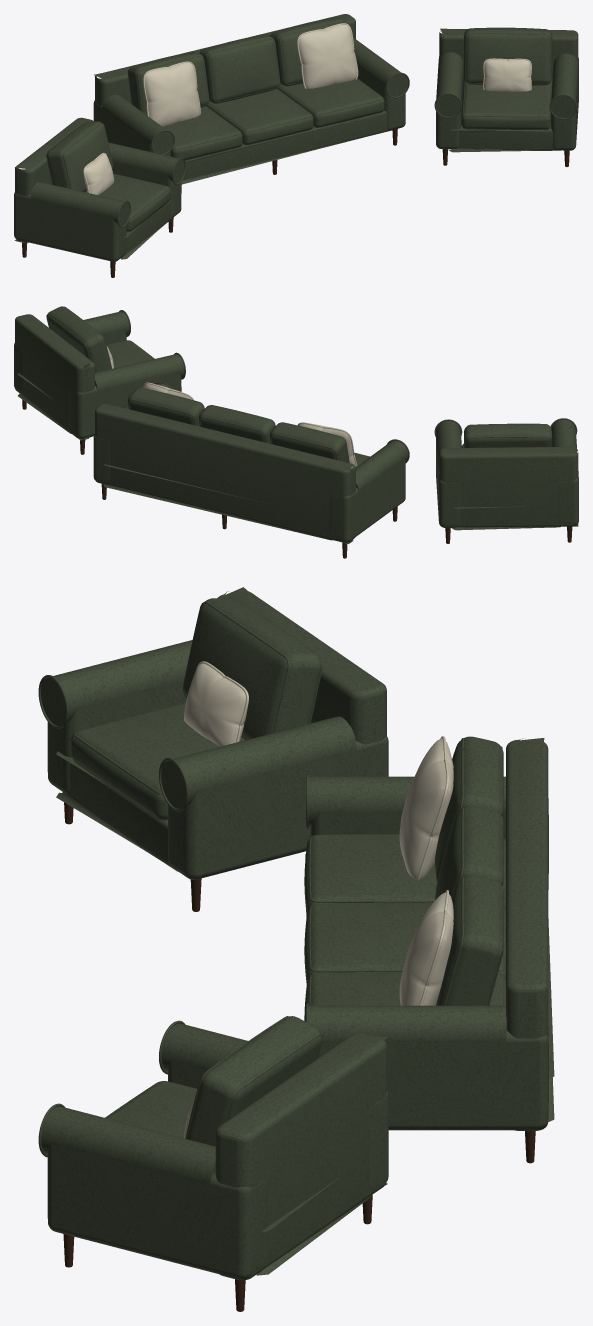
Rendered from milan-311-p2.glb.
3 renders of one model, top to bottom at view 1: azimuth 30°, elevation 25°; view 2: azimuth 150°, elevation 25°; view 3: azimuth 270°, elevation 25°, orthographic. The views are drawn at different scales.
Bounding box in the file's own units: 4.92 × 0.8877 × 1.95.
5 materials, 5 textured.
